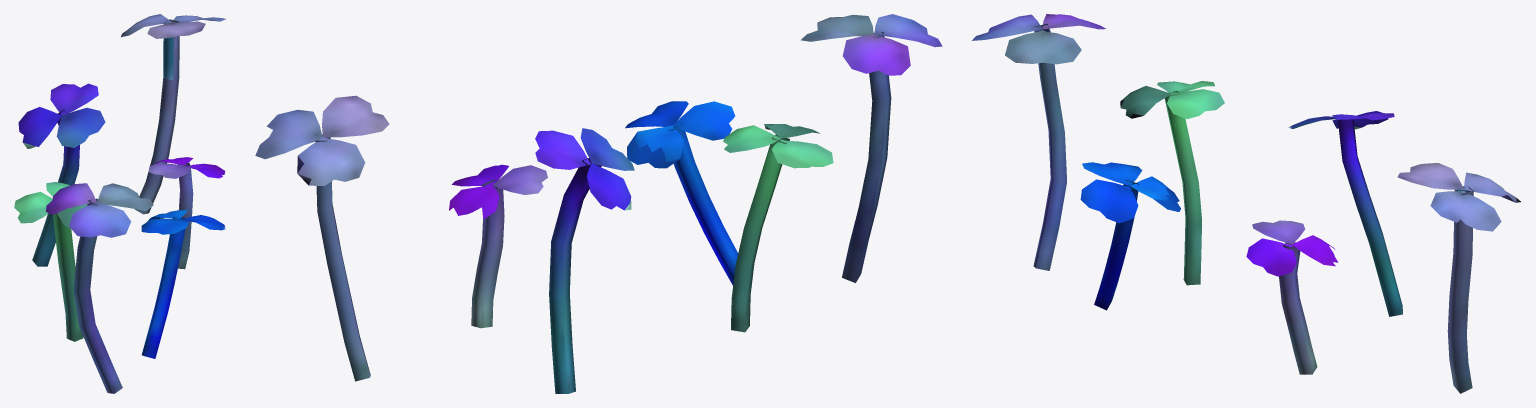
Rendered from singleclovers.fbx.
3 renders of one model, left to right at view 1: azimuth 30°, elevation 25°; view 2: azimuth 150°, elevation 25°; view 3: azimuth 270°, elevation 25°, orthographic. The views are drawn at different scales.
Visible parts, largest first — view 1: clovers.002, clovers.004, clovers.006, clovers.003, clovers.001, clovers.005; view 2: clovers.006, clovers.004, clovers.002, clovers.001, clovers.003, clovers.005; view 3: clovers.006, clovers.002, clovers.003, clovers.005, clovers.001, clovers.004.
Part boxes in pixels (x1,y1,x2,y2): clovers.002: [46, 183, 153, 393]; clovers.004: [18, 83, 105, 266]; clovers.006: [121, 14, 225, 214]; clovers.003: [14, 182, 87, 341]; clovers.001: [141, 209, 225, 358]; clovers.005: [148, 157, 225, 269]; clovers.006: [255, 95, 389, 381]; clovers.004: [535, 128, 634, 393]; clovers.002: [801, 14, 942, 282]; clovers.001: [625, 101, 738, 285]; clovers.003: [723, 124, 833, 332]; clovers.005: [449, 164, 547, 328]; clovers.006: [1397, 163, 1520, 393]; clovers.002: [972, 14, 1105, 270]; clovers.003: [1120, 81, 1224, 285]; clovers.005: [1246, 220, 1338, 374]; clovers.001: [1080, 162, 1180, 310]; clovers.004: [1289, 111, 1402, 316].
Size of the model in its own units: 13.96 by 8 by 16.6.
Materials: 1 (1 with a texture image).
